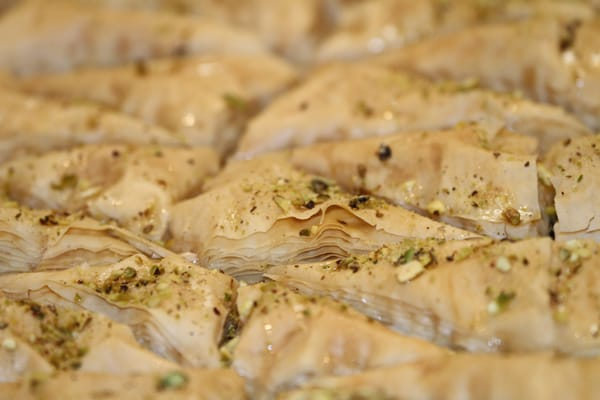sandwich: (1, 4, 597, 394)
